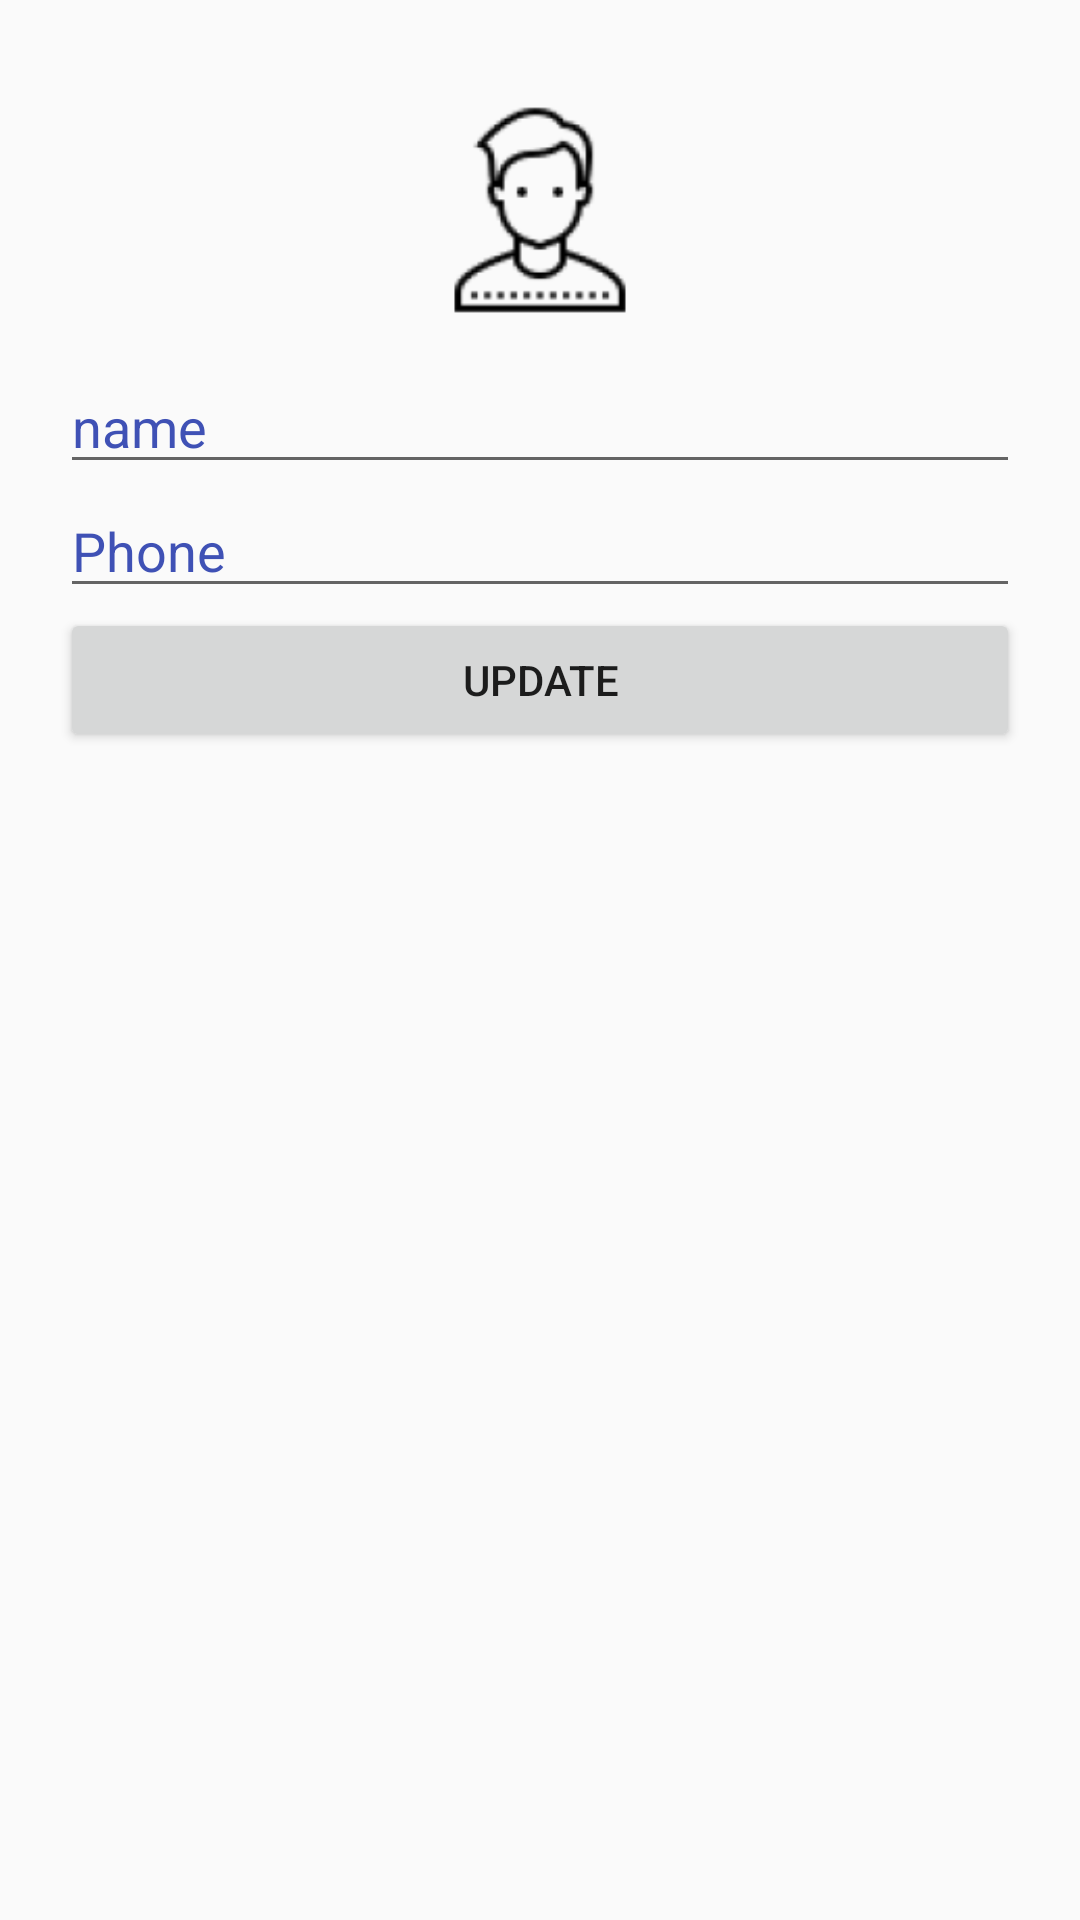

Point at icon controls on the screen. Image size 1080×1920, points as [x,y].
proflie: [540,210]
